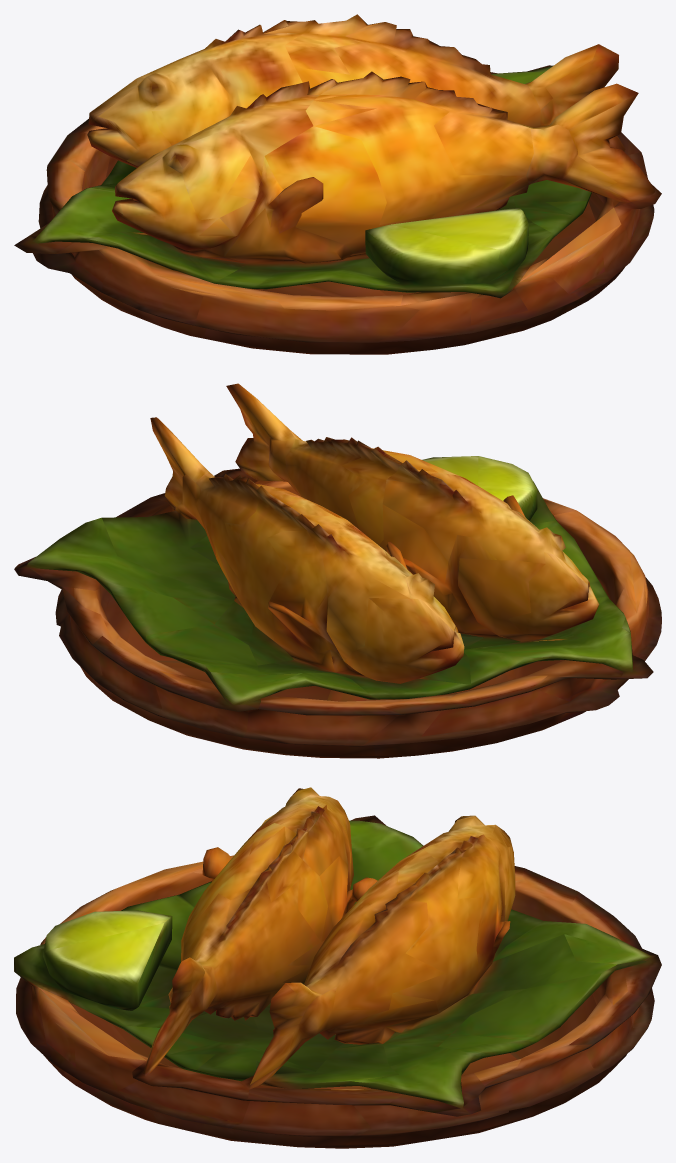
Rendered from peixe_frito.glb.
The picture shows the model from 3 angles, top to bottom: view 1: azimuth 30°, elevation 25°; view 2: azimuth 150°, elevation 25°; view 3: azimuth 270°, elevation 25°; orthographic projection. The views are drawn at different scales.
Parts seen in each view (by area): view 1: peixe_frito; view 2: peixe_frito; view 3: peixe_frito.
Boxes of the visible parts, <box> form: peixe_frito: <box>14,14,661,354</box>; peixe_frito: <box>14,383,661,758</box>; peixe_frito: <box>14,787,661,1148</box>.
Size of the model in its own units: 1 by 0.2822 by 0.9129.
Materials: 1 (1 with a texture image).
